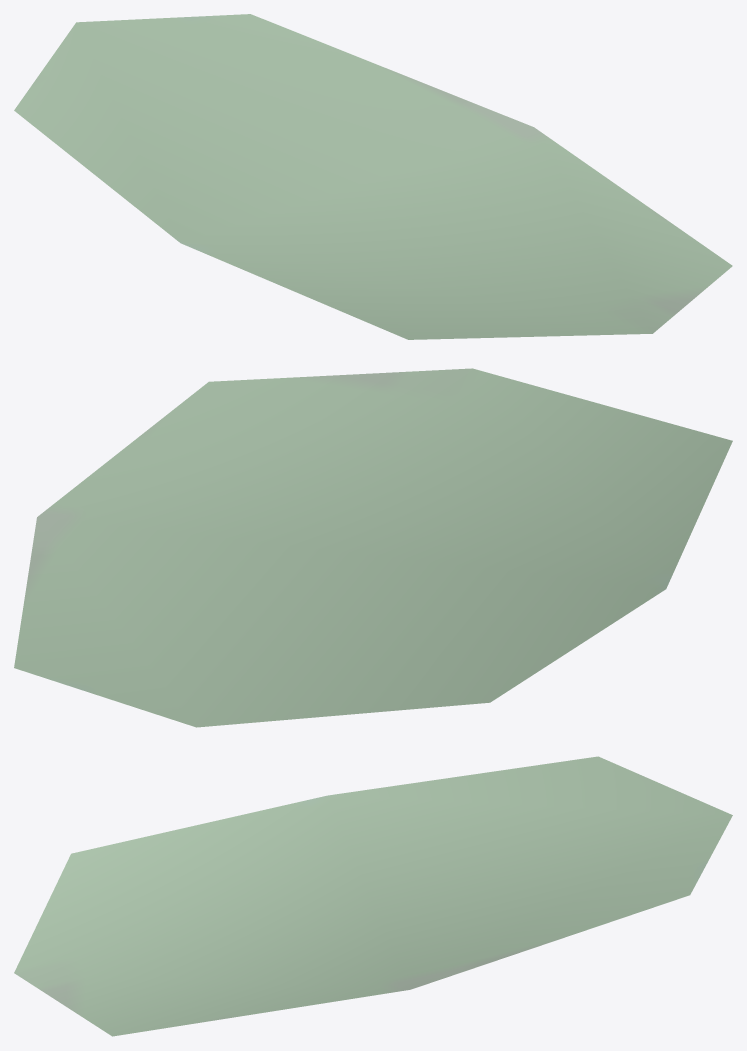
Rendered from TROLLHOLE02_HOLECAP76.fbx.
3 renders of one model, top to bottom at view 1: azimuth 30°, elevation 25°; view 2: azimuth 150°, elevation 25°; view 3: azimuth 270°, elevation 25°, orthographic. The views are drawn at different scales.
Visible parts, largest first — view 1: TROLLHOLE02_HOLECAP76; view 2: TROLLHOLE02_HOLECAP76; view 3: TROLLHOLE02_HOLECAP76.
Part boxes in pixels (x1,y1,x2,y2): TROLLHOLE02_HOLECAP76: [14, 14, 732, 339]; TROLLHOLE02_HOLECAP76: [14, 368, 732, 727]; TROLLHOLE02_HOLECAP76: [14, 756, 732, 1036].
Bounding box in the file's own units: 16371 × 2702 × 23837.
1 material, 1 textured.
